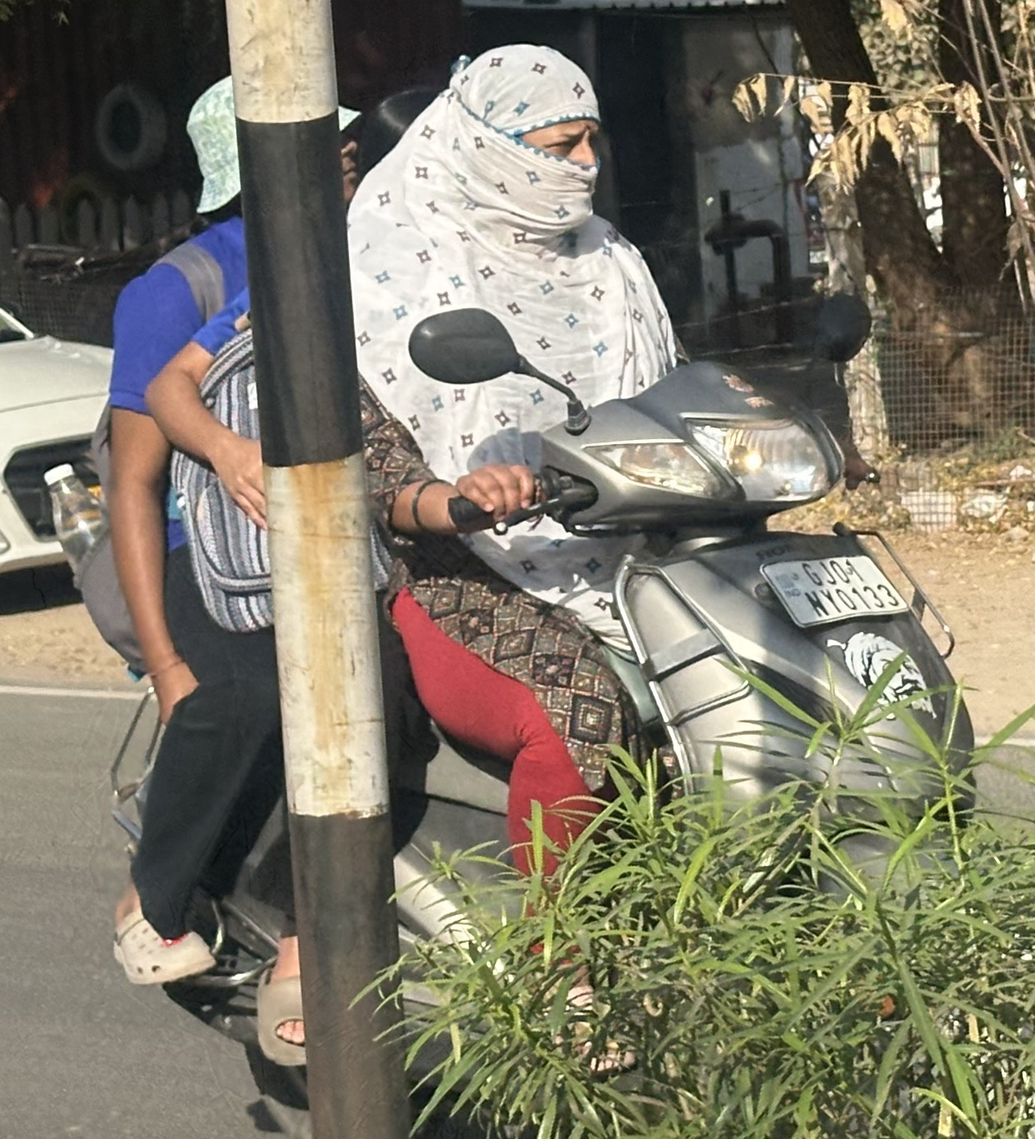BikeWithRider: (57, 46, 986, 1134)
NoHelmet: (436, 47, 606, 239), (180, 63, 370, 213)
